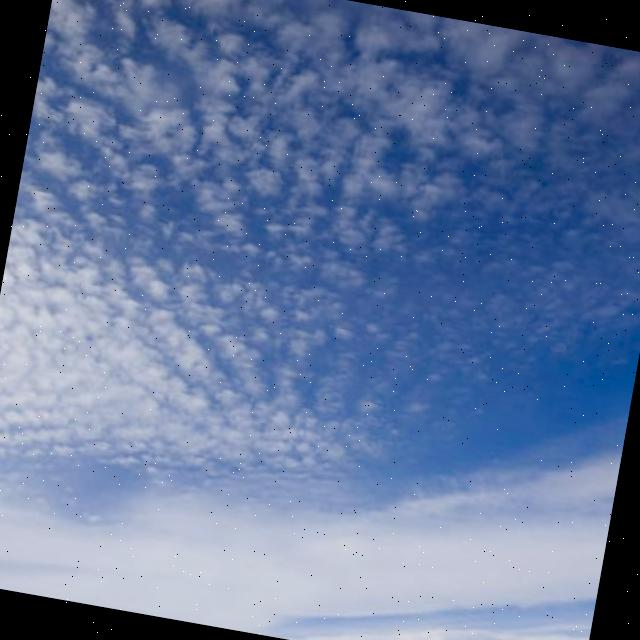Ac: (1, 1, 640, 623)
